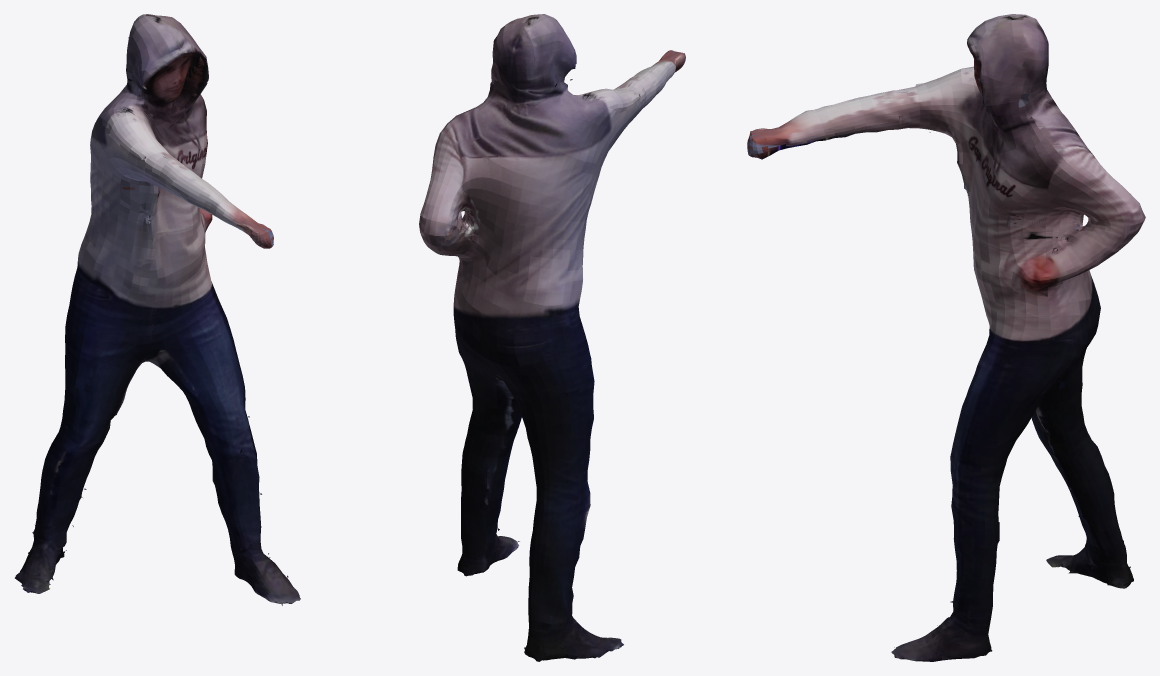
File: AB-2punch_0000040.obj
The picture shows the model from 3 angles, left to right: view 1: azimuth 30°, elevation 25°; view 2: azimuth 150°, elevation 25°; view 3: azimuth 270°, elevation 25°; orthographic projection. The views are drawn at different scales.
Parts seen in each view (by area): view 1: Retopo_frame_0000040_mesh; view 2: Retopo_frame_0000040_mesh; view 3: Retopo_frame_0000040_mesh.
Boxes of the visible parts, x1,y1,x2,y2 form: Retopo_frame_0000040_mesh: [15, 14, 300, 605]; Retopo_frame_0000040_mesh: [419, 14, 685, 661]; Retopo_frame_0000040_mesh: [747, 14, 1145, 661].
Size of the model in its own units: 0.6723 by 1.77 by 1.16.
1 material, 1 textured.
